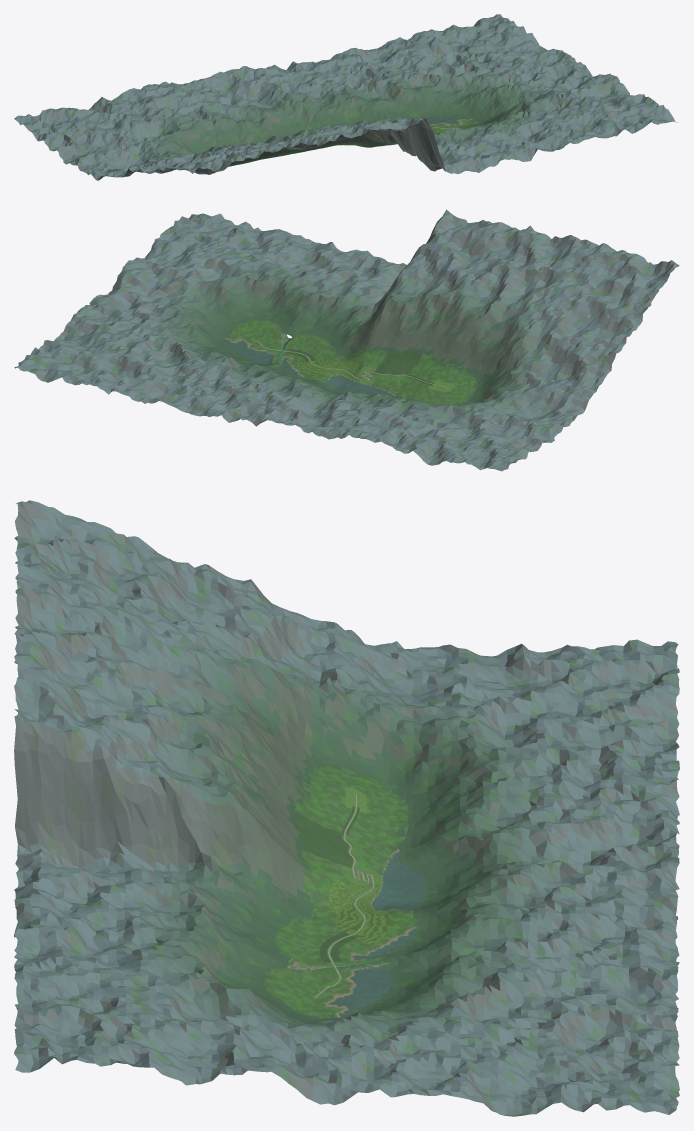
The model's file is japan.glb.
3 renders of one model, top to bottom at view 1: azimuth 30°, elevation 25°; view 2: azimuth 150°, elevation 25°; view 3: azimuth 270°, elevation 25°, orthographic. The views are drawn at different scales.
Parts seen in each view (by area): view 1: SM_Japan_Backdrop_0; view 2: SM_Japan_Backdrop_0, SM_Japan_Tile_4_2, SM_Japan_Tile_5_2, SM_Japan_Tile_2_3, SM_Japan_Tile_5_3, SM_Japan_Tile_2_2, SM_Japan_Tile_3_2, SM_Japan_Tile_6_2, SM_Japan_Tile_1_2; view 3: SM_Japan_Backdrop_0, SM_Japan_Tile_6_2, SM_Japan_Tile_7_2, SM_Japan_Tile_3_2, SM_Japan_Tile_3_3, SM_Japan_Tile_6_3, SM_Japan_Tile_5_2, SM_Japan_Tile_8_2, SM_Japan_Tile_2_2, SM_Japan_Tile_5_3, SM_Japan_Tile_9_2, SM_Japan_Tile_8_3 (+4 smaller).
Part boxes in pixels (<box>): SM_Japan_Backdrop_0: <box>14,14,678,180</box>; SM_Japan_Backdrop_0: <box>14,209,679,471</box>; SM_Japan_Tile_4_2: <box>386,359,417,380</box>; SM_Japan_Tile_5_2: <box>365,354,397,375</box>; SM_Japan_Tile_2_3: <box>416,383,447,403</box>; SM_Japan_Tile_5_3: <box>353,372,385,392</box>; SM_Japan_Tile_2_2: <box>427,367,459,387</box>; SM_Japan_Tile_3_2: <box>406,363,438,382</box>; SM_Japan_Tile_6_2: <box>344,353,376,371</box>; SM_Japan_Tile_1_2: <box>448,371,476,392</box>; SM_Japan_Backdrop_0: <box>14,500,679,1116</box>; SM_Japan_Tile_6_2: <box>311,862,356,902</box>; SM_Japan_Tile_7_2: <box>311,888,356,921</box>; SM_Japan_Tile_3_2: <box>311,799,356,837</box>; SM_Japan_Tile_3_3: <box>356,813,400,849</box>; SM_Japan_Tile_6_3: <box>356,877,400,907</box>; SM_Japan_Tile_5_2: <box>311,841,356,877</box>; SM_Japan_Tile_8_2: <box>311,919,356,941</box>; SM_Japan_Tile_2_2: <box>311,779,356,813</box>; SM_Japan_Tile_5_3: <box>356,857,400,890</box>; SM_Japan_Tile_9_2: <box>312,939,356,961</box>; SM_Japan_Tile_8_3: <box>356,921,400,943</box>.
Size of the model in its own units: 6056 by 1256 by 3852.
